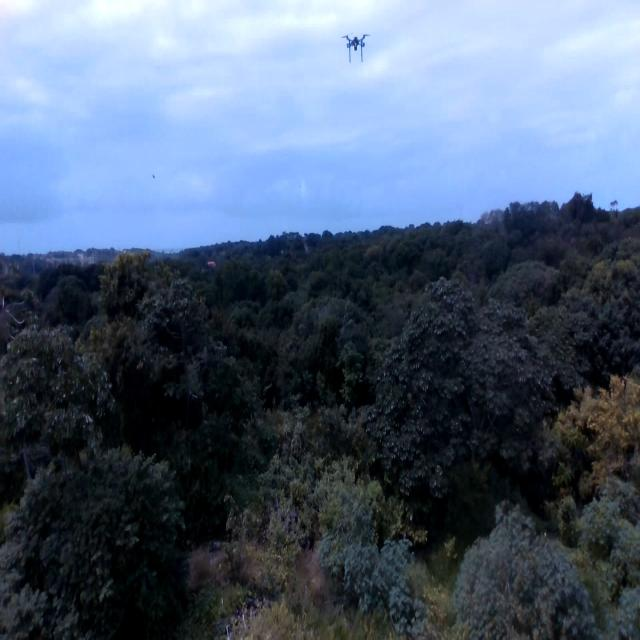-uav-: (336, 22, 379, 82)
